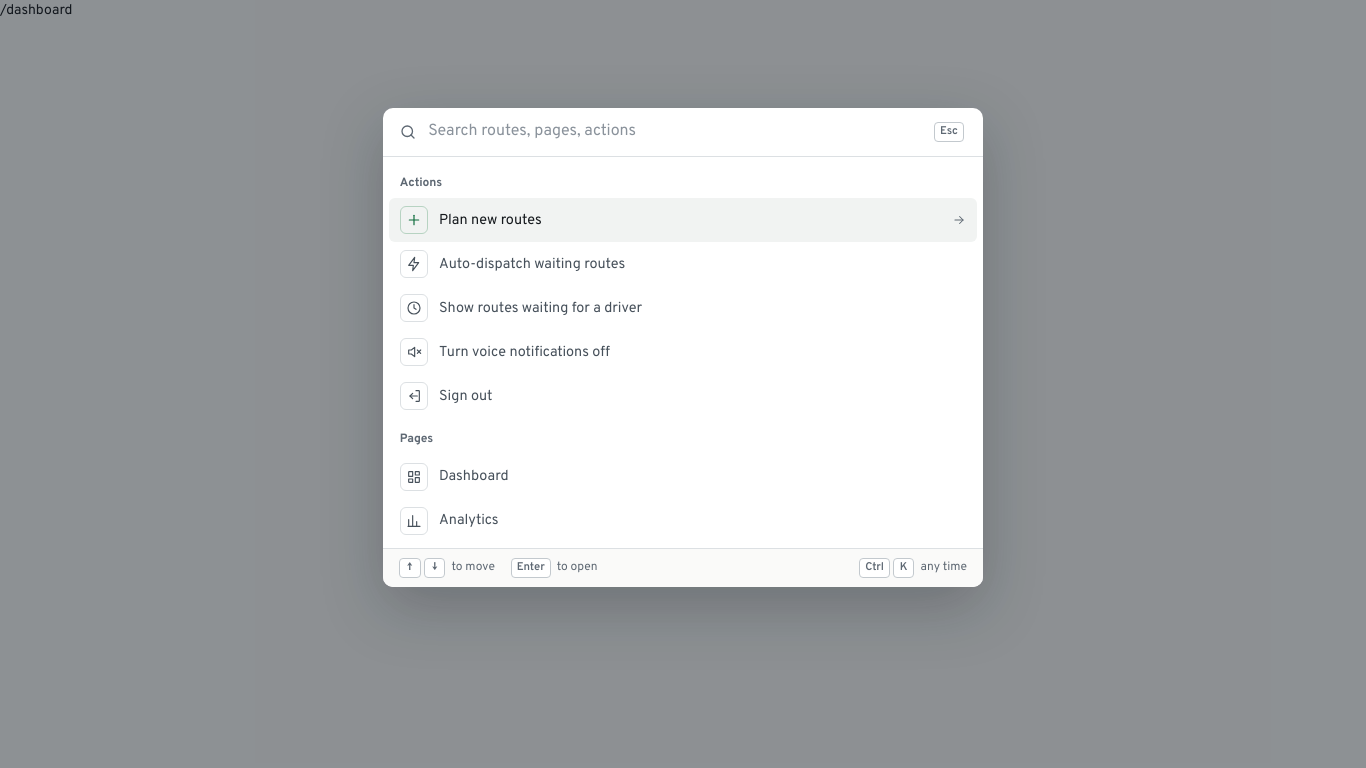
it: command palette › says what to try when nothing matches
The width and height of the screenshot is (1366, 768).
In the dropdown: (676, 132) x1=428 y1=121 x2=923 y2=142, type "zzzz"
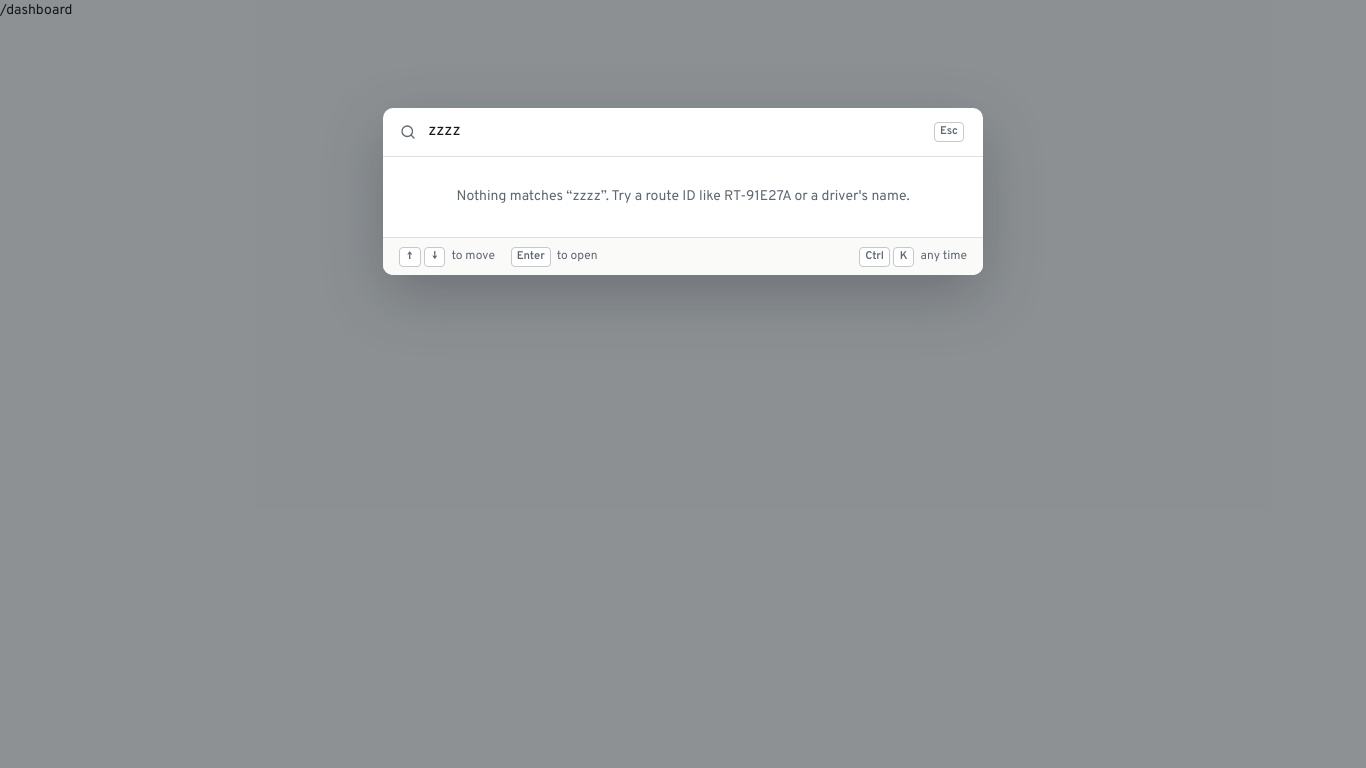
Expected: the list item "Nothing matches" is shown, x1=456 y1=188 x2=572 y2=205
